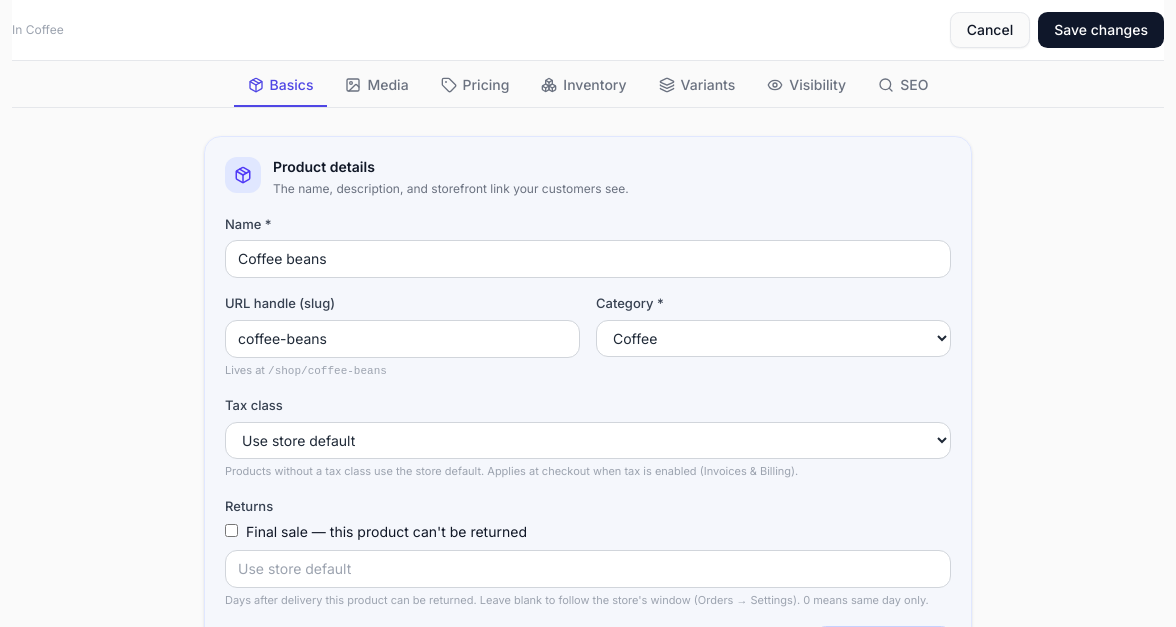
ProductEditorForm inventory flow › uses a dedicated stock handoff and keeps existing variant totals read-only
Click the button "Inventory": (584, 86) top-left (527, 65), bottom-right (640, 107)
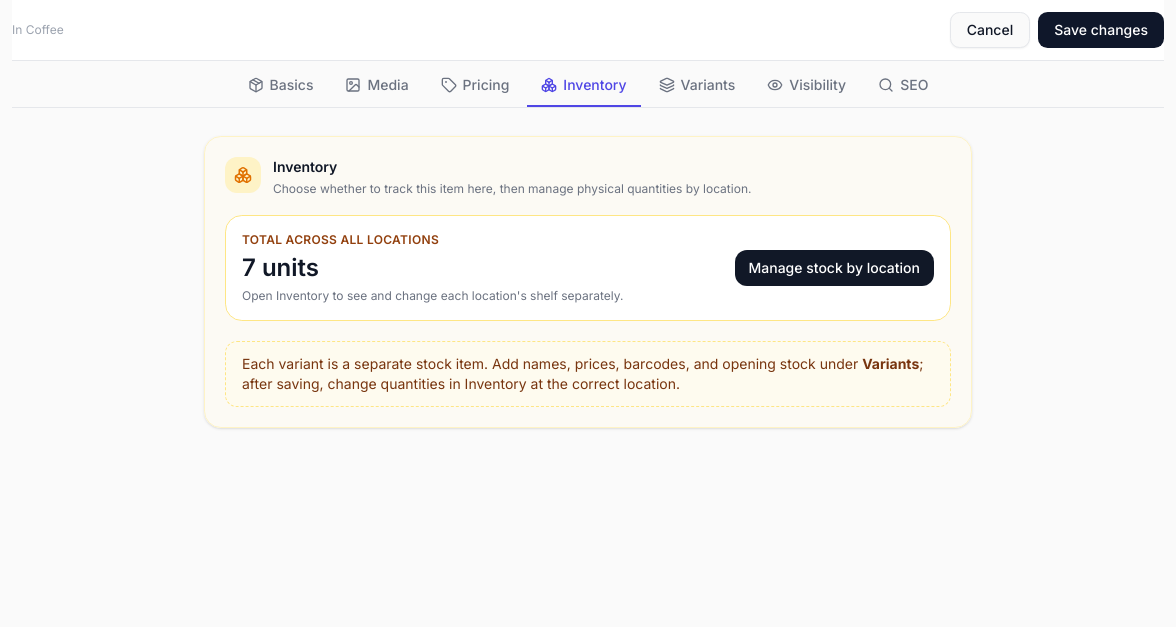
Expected: the text "7 units" is shown, top-left (242, 252), bottom-right (319, 282)
Click the button "Variants": (697, 86) top-left (645, 65), bottom-right (749, 107)
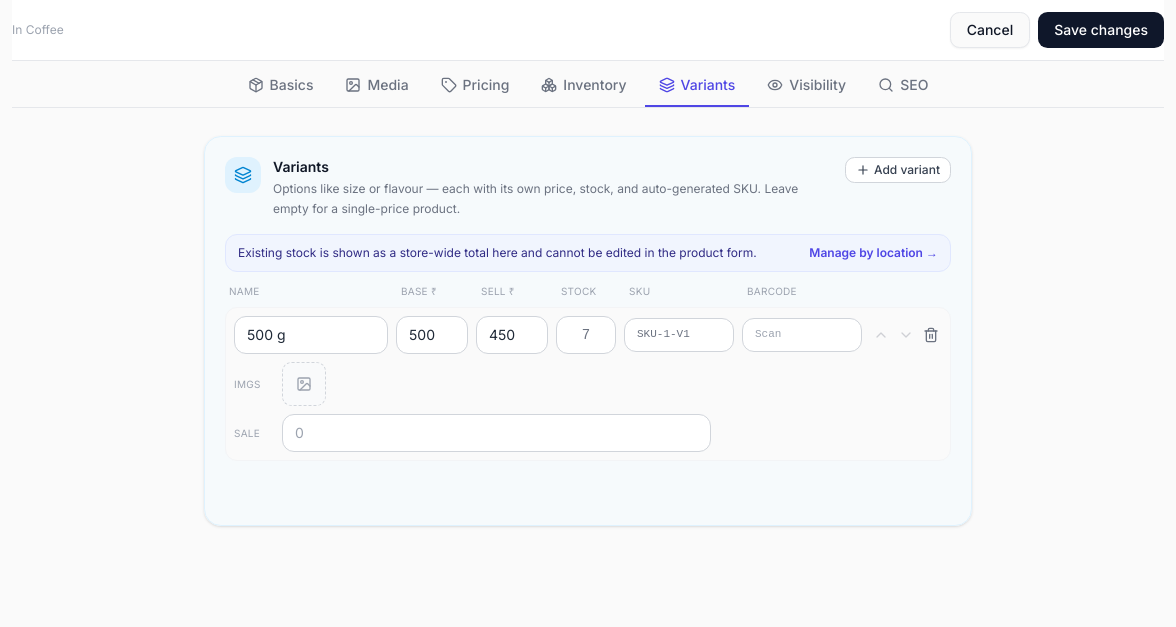
Expected: the text "Existing stock is shown as a store-wide total" is shown, top-left (238, 245), bottom-right (757, 260)
Click the button "Add variant": (898, 170) top-left (845, 157), bottom-right (951, 183)
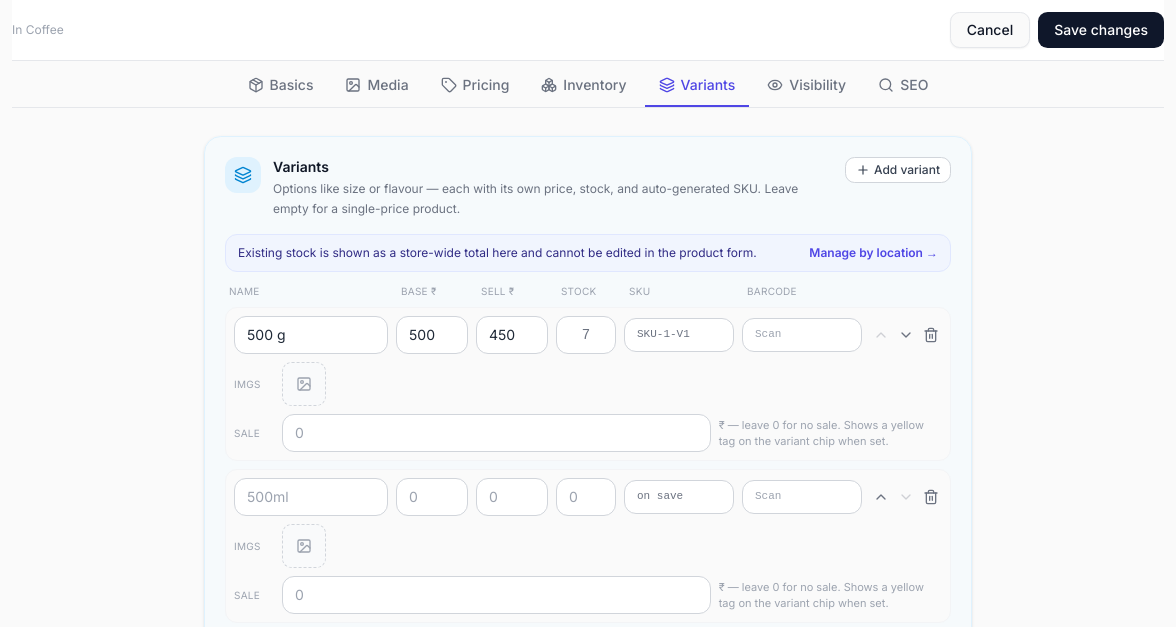
Expected: the field named "Opening stock for variant 2" is shown, top-left (556, 478), bottom-right (616, 516)
